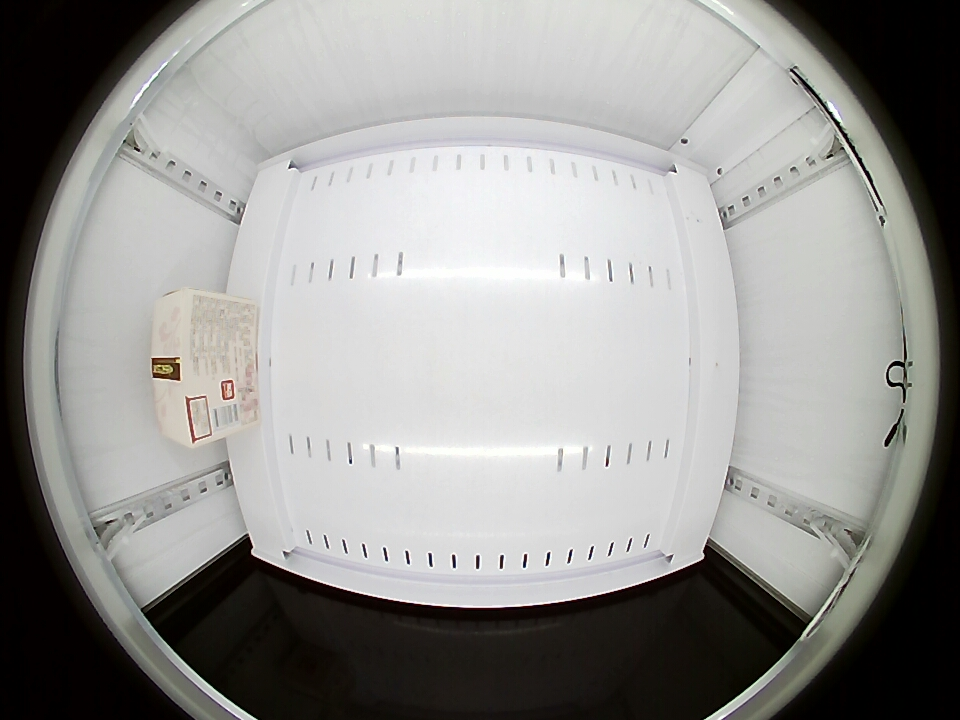rousongbing: (151, 288, 238, 448)
